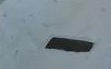Spalling: (44, 36, 95, 53)
